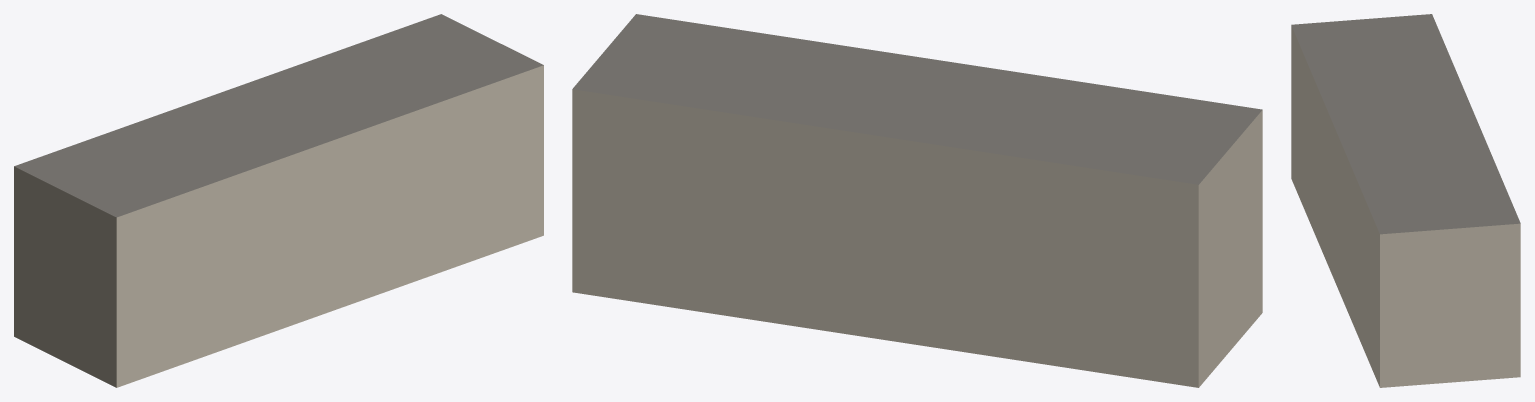
3 renders of one model, left to right at view 1: azimuth 30°, elevation 25°; view 2: azimuth 150°, elevation 25°; view 3: azimuth 270°, elevation 25°, orthographic. The views are drawn at different scales.
Visible parts, largest first — view 1: HP-w733797100; view 2: HP-w733797100; view 3: HP-w733797100.
Part boxes in pixels (<box>): HP-w733797100: <box>14,14,543,387</box>; HP-w733797100: <box>572,14,1262,387</box>; HP-w733797100: <box>1291,14,1520,387</box>.
Bounding box in the file's own units: 55.39 × 18 × 24.39.
